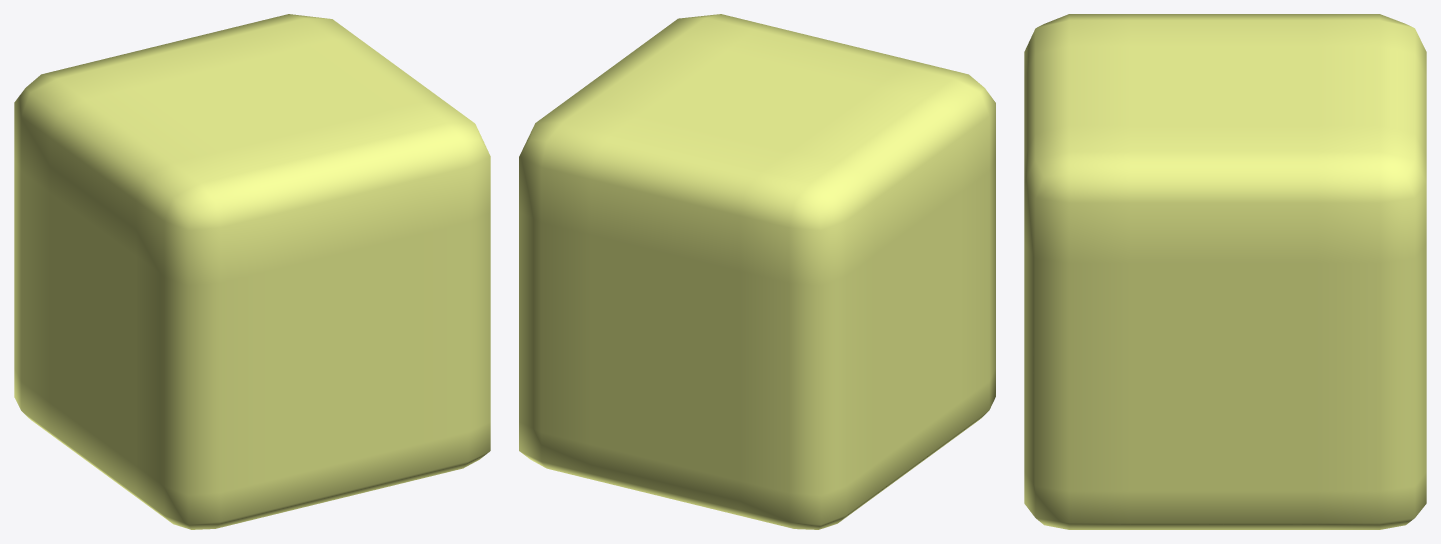
File: CUB.FBX
3 views of the same model, side by side, from view 1: azimuth 30°, elevation 25°; view 2: azimuth 150°, elevation 25°; view 3: azimuth 270°, elevation 25° (orthographic). The views are drawn at different scales.
Parts seen in each view (by area): view 1: normal001; view 2: normal001; view 3: normal001.
Part boxes in pixels (bbox=[...]): normal001: bbox=[14, 14, 490, 529]; normal001: bbox=[519, 14, 995, 529]; normal001: bbox=[1024, 14, 1426, 529].
Size of the model in its own units: 39.37 by 39.37 by 39.37.
